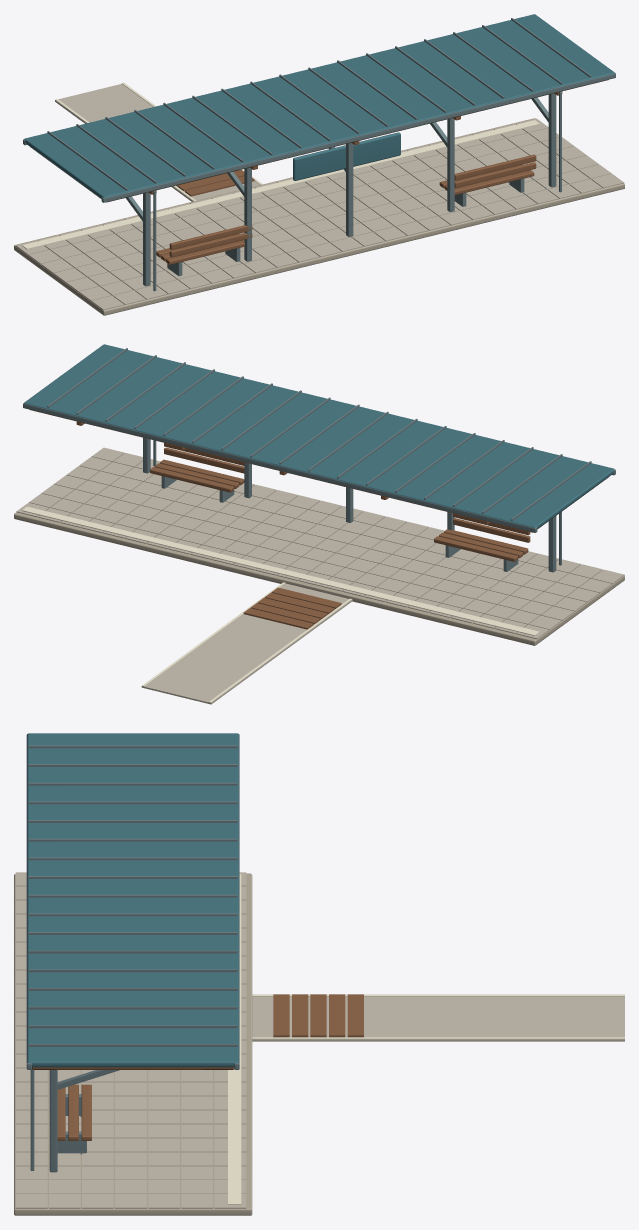
Rendered from train-stop-south.glb.
3 renders of one model, top to bottom at view 1: azimuth 30°, elevation 25°; view 2: azimuth 150°, elevation 25°; view 3: azimuth 270°, elevation 25°, orthographic. The views are drawn at different scales.
Visible parts, largest first — view 1: TrainStop_south; view 2: TrainStop_south; view 3: TrainStop_south.
Boxes of the visible parts, bbox=[...] form: TrainStop_south: bbox=[14, 14, 624, 315]; TrainStop_south: bbox=[14, 344, 624, 704]; TrainStop_south: bbox=[14, 733, 624, 1215].
Bounding box in the file's own units: 18 × 3.83 × 13.84.
